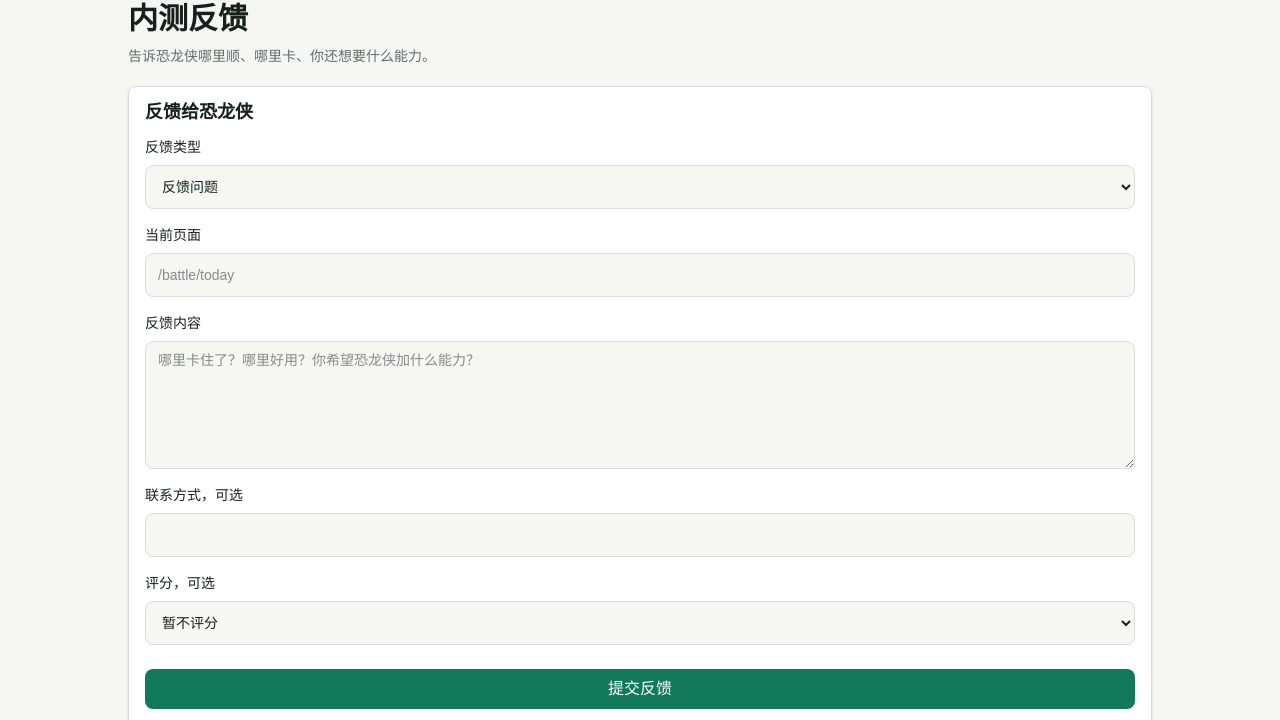
Test case: 反馈与内测检查页面 › /feedback 页面能提交反馈
This screenshot has width=1280, height=720.
In the text box labelled "反馈内容": (640, 404) x1=145 y1=340 x2=1135 y2=468, type "希望补救副本能更明显一点。"
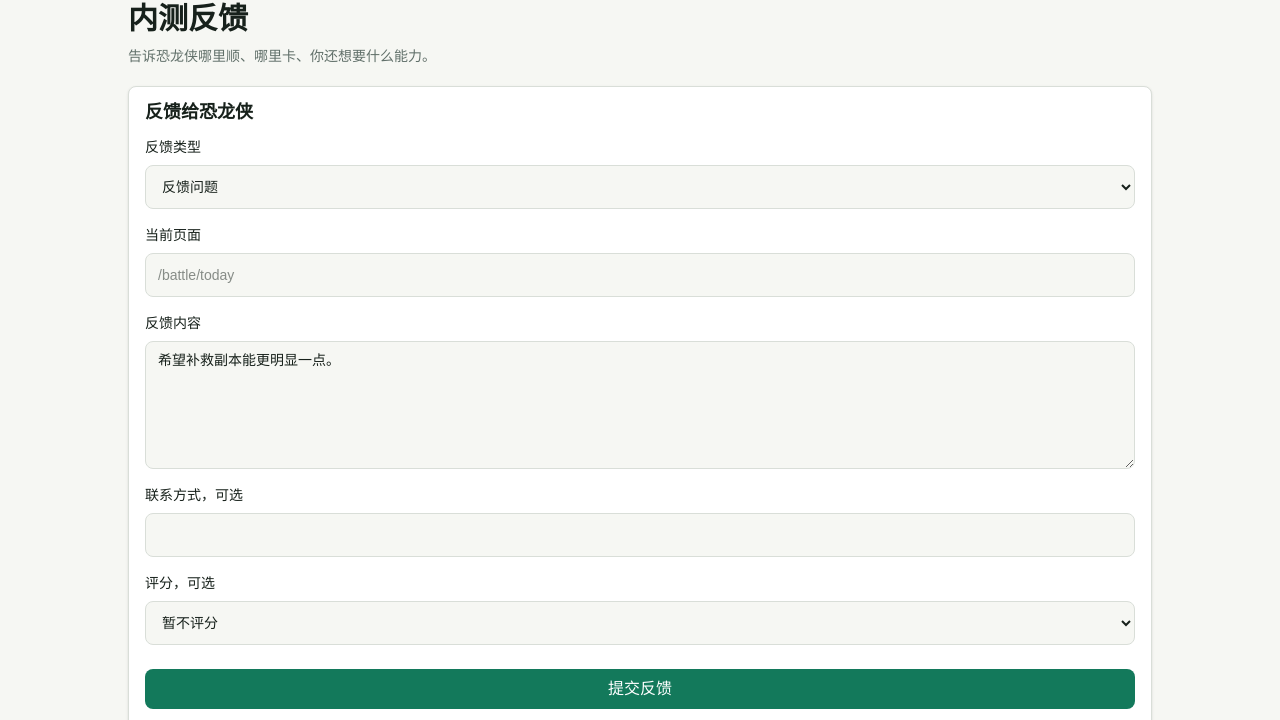
Click the button "提交反馈": click(640, 688) x1=145 y1=668 x2=1135 y2=708
(page scrolled)
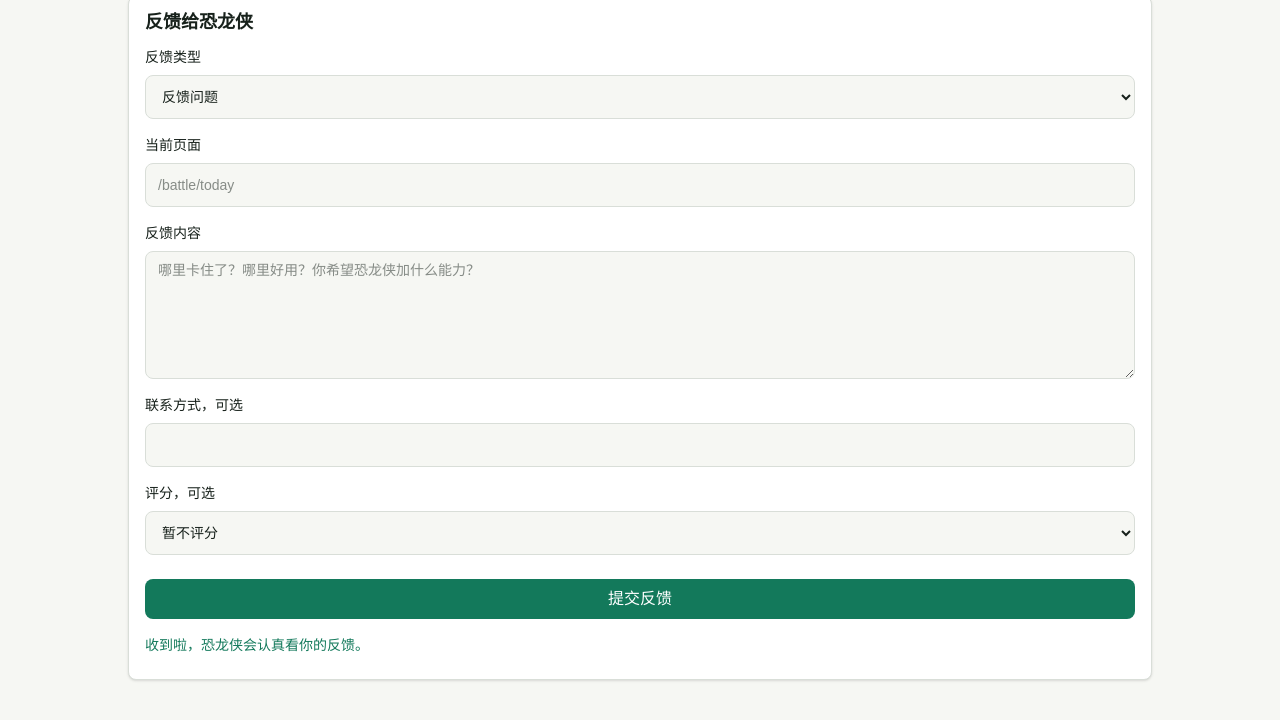
Expected: the text "收到啦，恐龙侠会认真看你的反馈。" is shown, x1=145 y1=636 x2=369 y2=652
